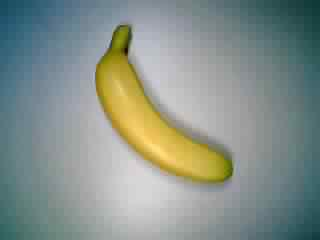banana: (92, 22, 237, 184)
